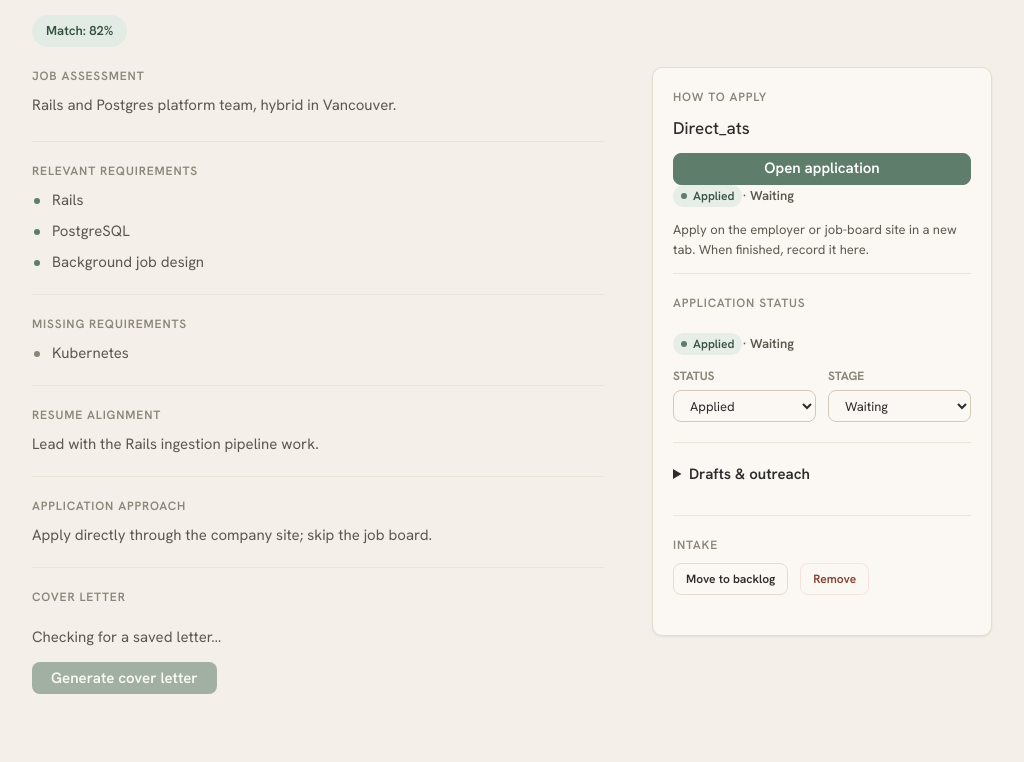
Scenario: job detail intake controls › patches the single posting and re-reads it
(page scrolled)
Step 1. Click the button "Move to backlog" → (731, 579), box [673,563,788,595]
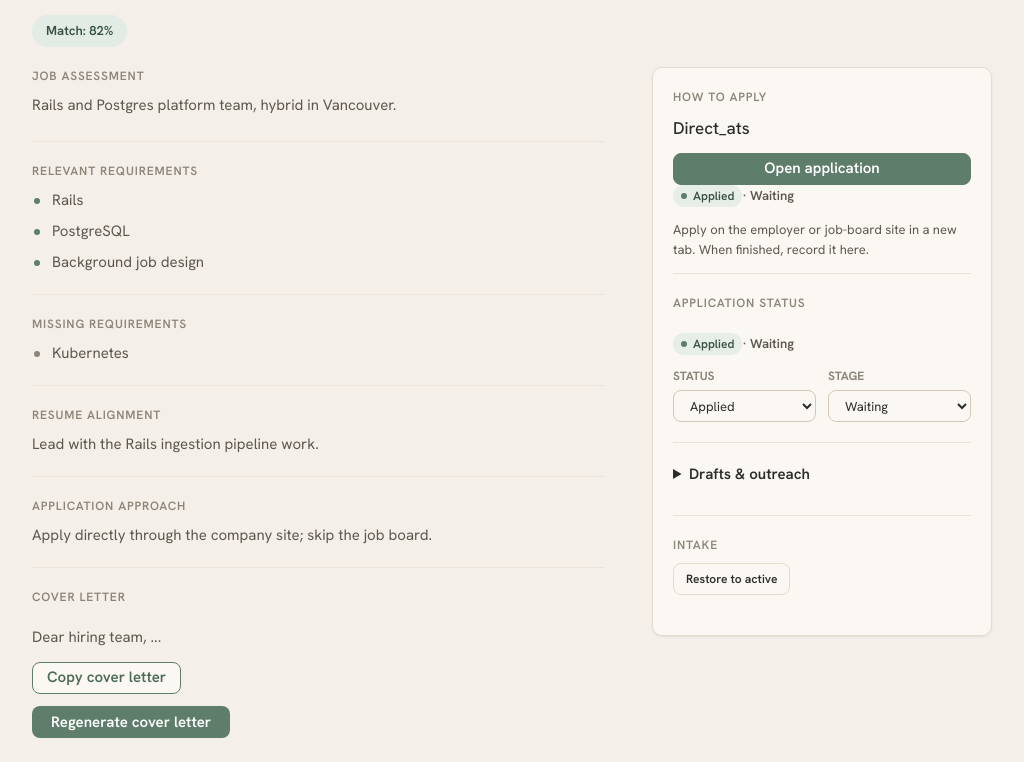
Now the button with class "job-lifecycle-restore" is shown, box [673,563,790,595]
